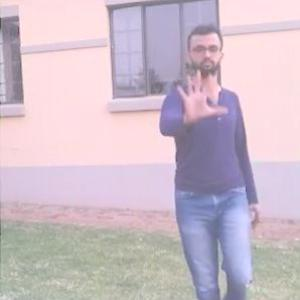follow_hand: (171, 63, 230, 124)
